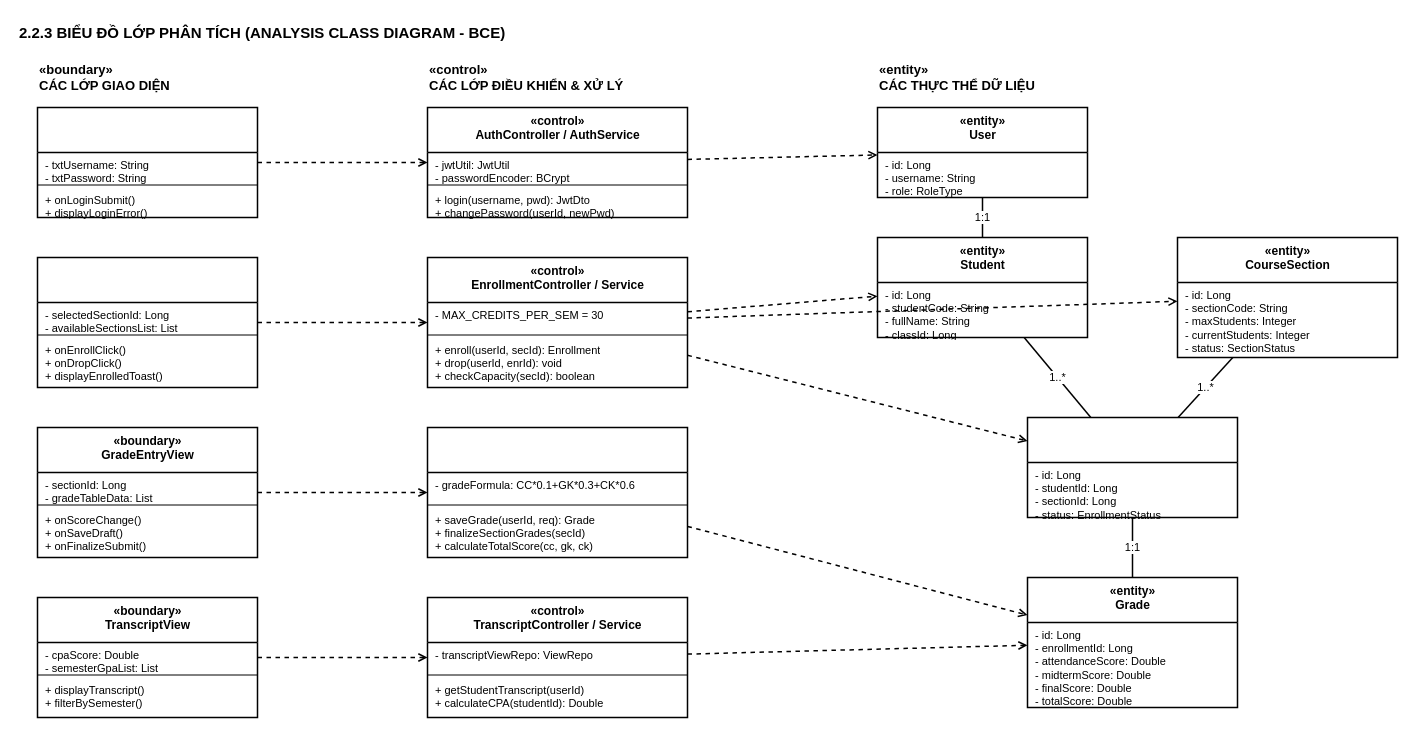
This 1415x735 diagram has some shape labels left out. Here are the shapes that lost their labels. From the top down, the box of each, then its label:
(36, 106, 258, 218): «boundary» LoginForm
(36, 256, 258, 388): «boundary» CourseRegistrationView
(1026, 416, 1238, 518): «entity» Enrollment
(426, 426, 688, 558): «control» GradeController / GradeService
